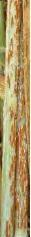Wheat: (8, 6, 26, 237)
